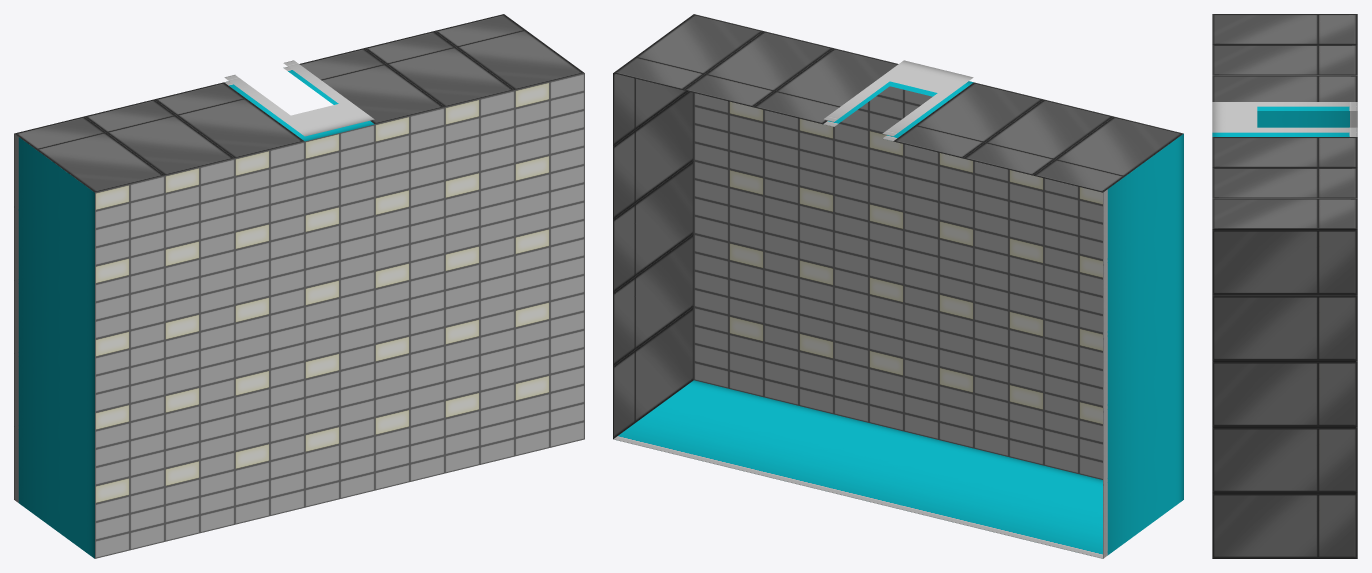
The model's file is refreshment_area.obj.
The picture shows the model from 3 angles, left to right: view 1: azimuth 30°, elevation 25°; view 2: azimuth 150°, elevation 25°; view 3: azimuth 270°, elevation 25°; orthographic projection. The views are drawn at different scales.
Parts seen in each view (by area): view 1: refreshment_area; view 2: refreshment_area; view 3: refreshment_area.
Boxes of the visible parts, left/top/right/bottom form: refreshment_area: left=14, top=14, right=584, bottom=558; refreshment_area: left=613, top=14, right=1183, bottom=558; refreshment_area: left=1212, top=14, right=1357, bottom=558.
Size of the model in its own units: 1050 by 760 by 300.
Materials: 4 (4 with a texture image).
